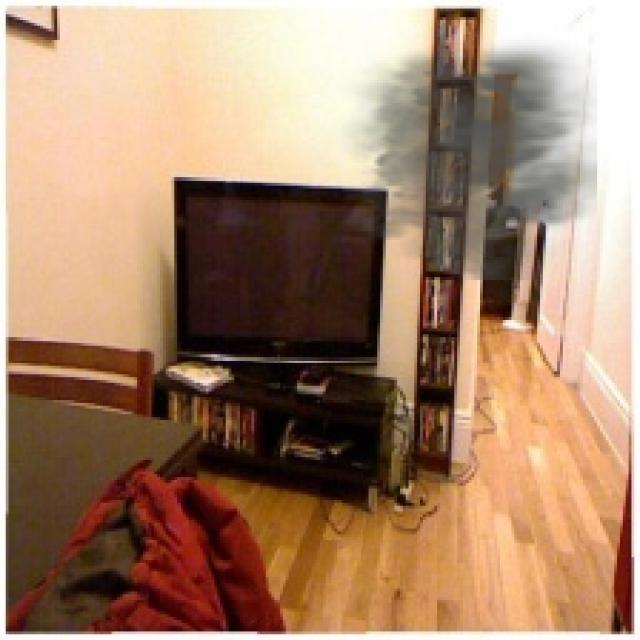smoke: (326, 34, 597, 280)
